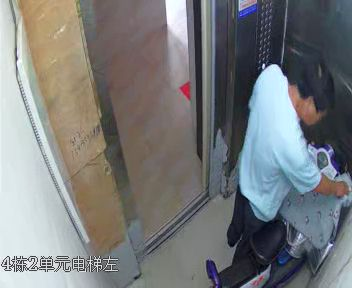Electric-bicycle: (203, 139, 352, 288)
